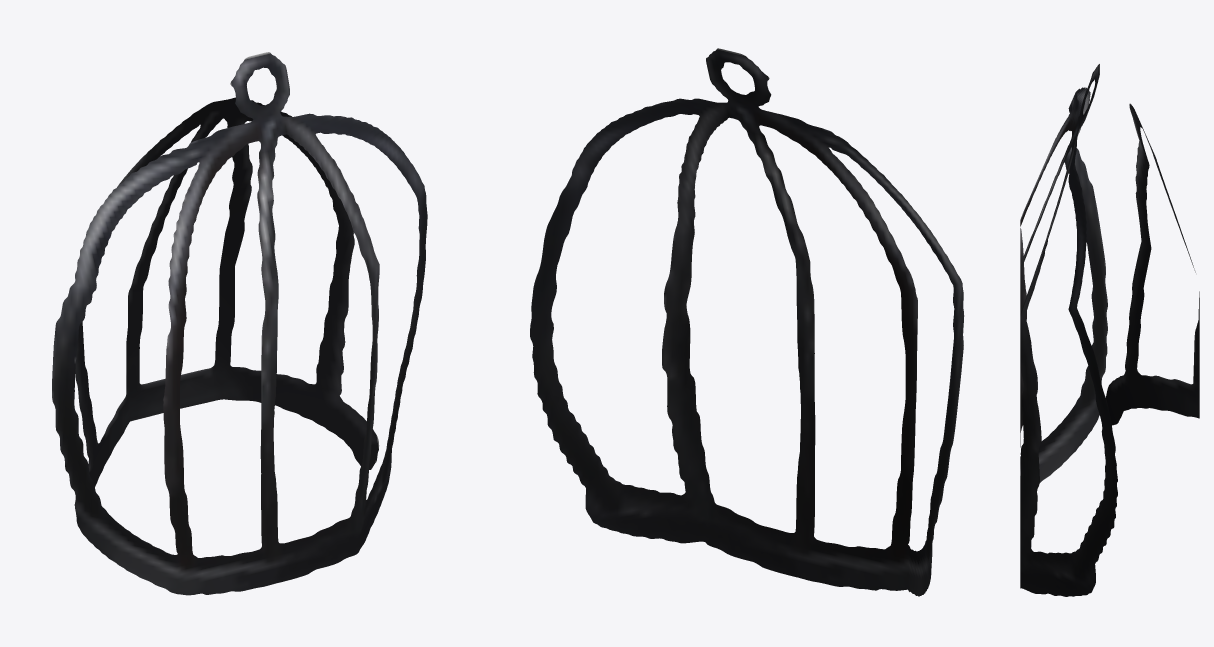
File: Cage.FBX
3 renders of one model, left to right at view 1: azimuth 30°, elevation 25°; view 2: azimuth 150°, elevation 25°; view 3: azimuth 270°, elevation 25°, orthographic. The views are drawn at different scales.
Visible parts, largest first — view 1: Cage; view 2: Cage; view 3: Cage.
Boxes of the visible parts, x1,y1,x2,y2 form: Cage: (52, 52, 427, 595); Cage: (530, 48, 964, 596); Cage: (1020, 64, 1199, 596).
Size of the model in its own units: 99.74 by 34.95 by 119.
